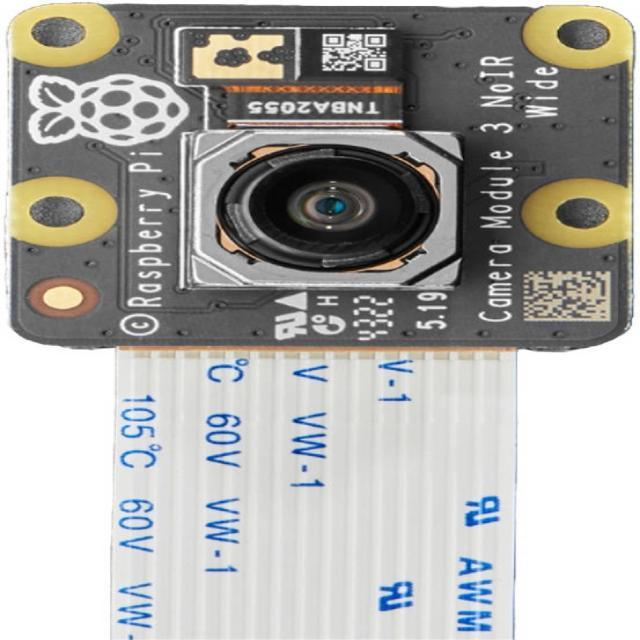hidden camera: (304, 191, 365, 224)
